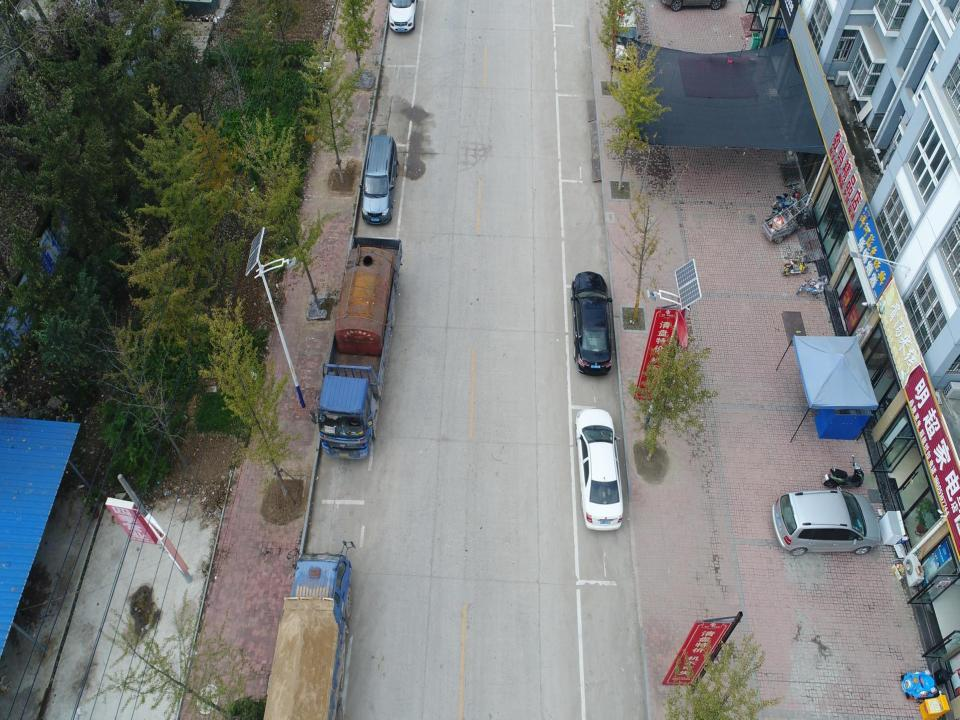car: (772, 486, 880, 556), (575, 408, 623, 532), (570, 272, 613, 378), (388, 0, 418, 34)
truck: (310, 235, 402, 459), (262, 539, 356, 719)
van: (360, 136, 400, 224), (610, 0, 642, 70)
